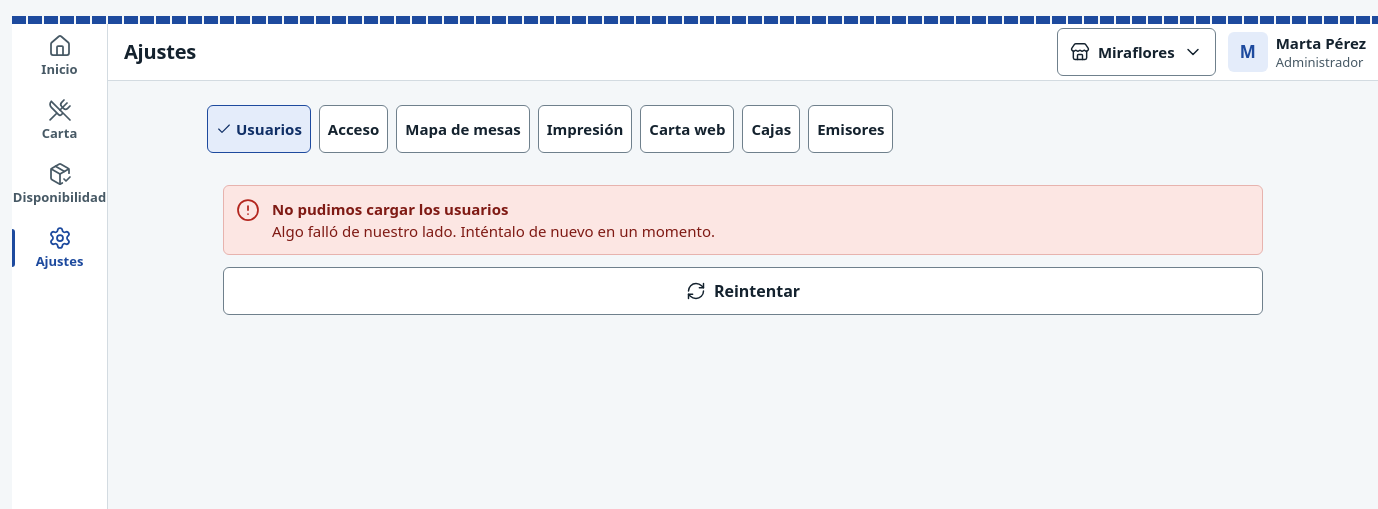
Ajustes › Impresión: ver (criterio 136) › "Impresión" es una sección de Ajustes, junto a Usuarios, Acceso y Mapa de mesas
This screenshot has width=1378, height=509.
(page scrolled)
Click the button "Impresión".
click(585, 129)  # box 538,105 -> 632,153
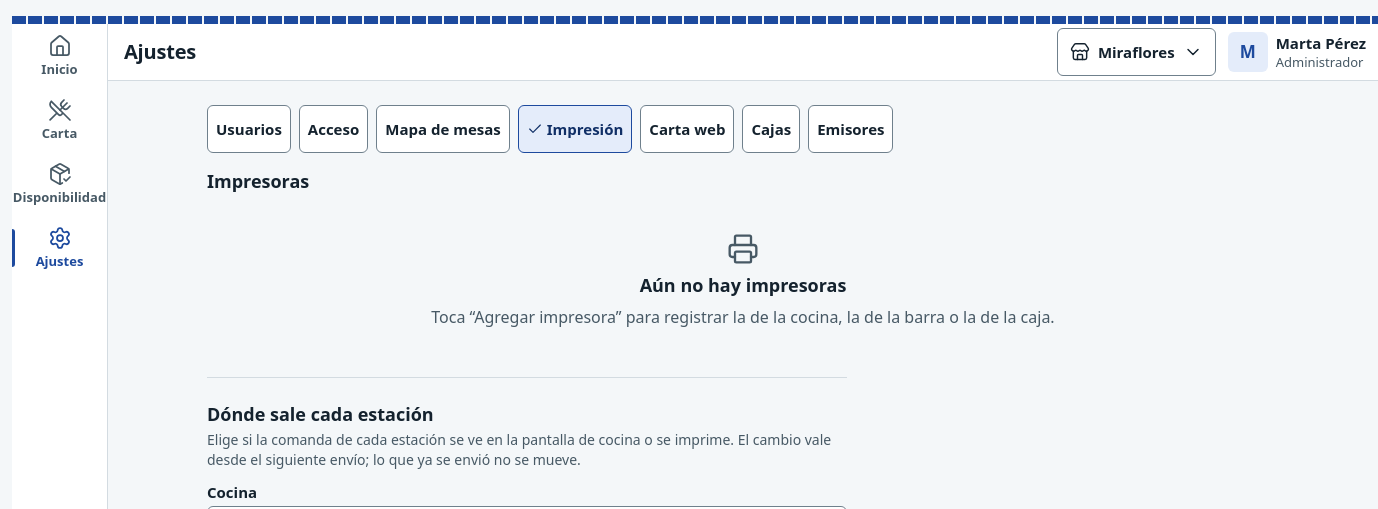
Expected: the heading "Impresoras" is shown, 207,169 -> 309,193
